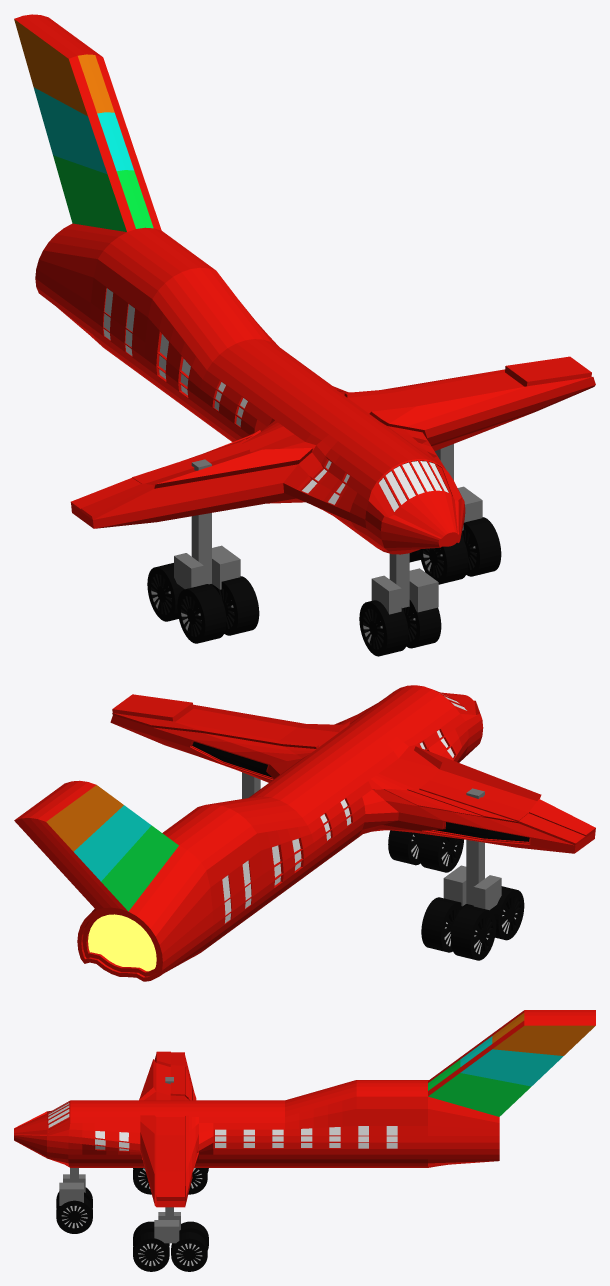
3 renders of one model, top to bottom at view 1: azimuth 30°, elevation 25°; view 2: azimuth 150°, elevation 25°; view 3: azimuth 270°, elevation 25°, orthographic. The views are drawn at different scales.
Parts seen in each view (by area): view 1: Cylinder, Cube.002, Cube.003, Circle.002, Circle.009, Circle.004, Circle.006, Circle.008, Circle.003, Circle.010, Cube.001; view 2: Cylinder, Cube.002, Circle.003, Circle.005, Circle.009, Circle.002, Circle.010; view 3: Cylinder, Circle.001, Circle.006, Circle.010, Cube.001, Cube.003, Circle.005, Circle.004.
Boxes of the visible parts, bbox=[...] form: Cylinder: bbox=[14, 14, 595, 554]; Cube.002: bbox=[174, 459, 240, 589]; Cube.003: bbox=[371, 553, 438, 614]; Circle.002: bbox=[177, 584, 226, 643]; Circle.009: bbox=[359, 600, 408, 656]; Circle.004: bbox=[212, 576, 259, 635]; Circle.006: bbox=[461, 517, 501, 576]; Circle.008: bbox=[419, 535, 468, 584]; Circle.003: bbox=[147, 563, 184, 621]; Circle.010: bbox=[402, 600, 441, 648]; Cube.001: bbox=[435, 444, 482, 530]; Cylinder: bbox=[14, 685, 595, 981]; Cube.002: bbox=[443, 788, 501, 910]; Circle.003: bbox=[451, 905, 496, 960]; Circle.005: bbox=[421, 897, 464, 952]; Circle.009: bbox=[418, 833, 463, 872]; Circle.002: bbox=[490, 886, 524, 940]; Circle.010: bbox=[388, 830, 421, 865]; Cylinder: bbox=[14, 1010, 595, 1207]; Circle.001: bbox=[171, 1232, 207, 1271]; Circle.006: bbox=[133, 1232, 169, 1271]; Circle.010: bbox=[56, 1196, 92, 1233]; Cube.001: bbox=[154, 1207, 180, 1243]; Cube.003: bbox=[59, 1168, 85, 1205]; Circle.005: bbox=[188, 1168, 207, 1194]; Circle.004: bbox=[133, 1168, 151, 1194].
Size of the model in its own units: 332 by 212 by 508.
